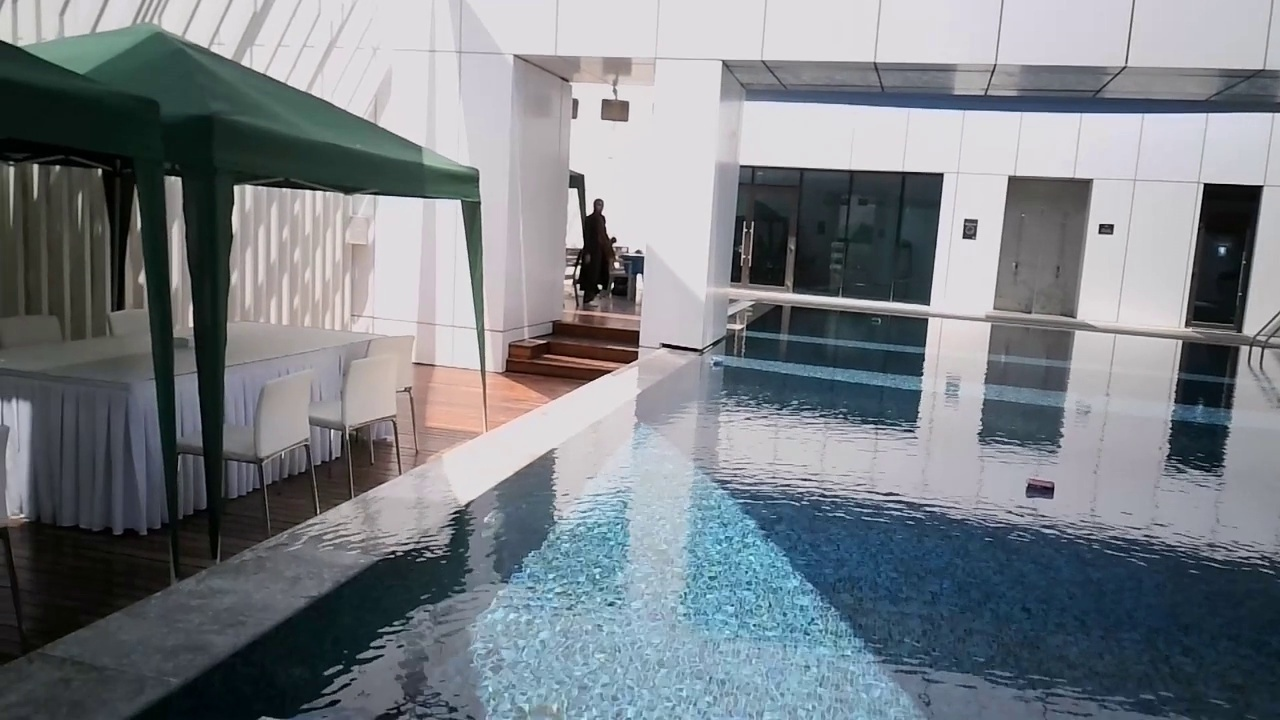debris: (1023, 476, 1058, 503), (706, 353, 728, 370), (866, 313, 882, 325)
